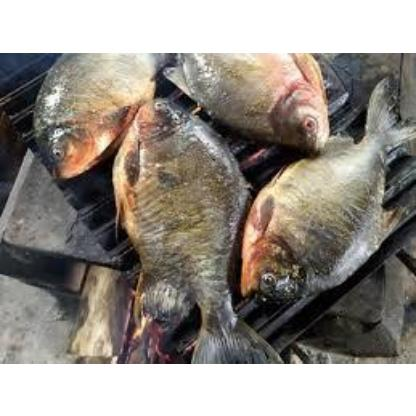ikan-pacu: (114, 90, 246, 364), (247, 108, 412, 300), (176, 51, 334, 146), (28, 52, 144, 176)
